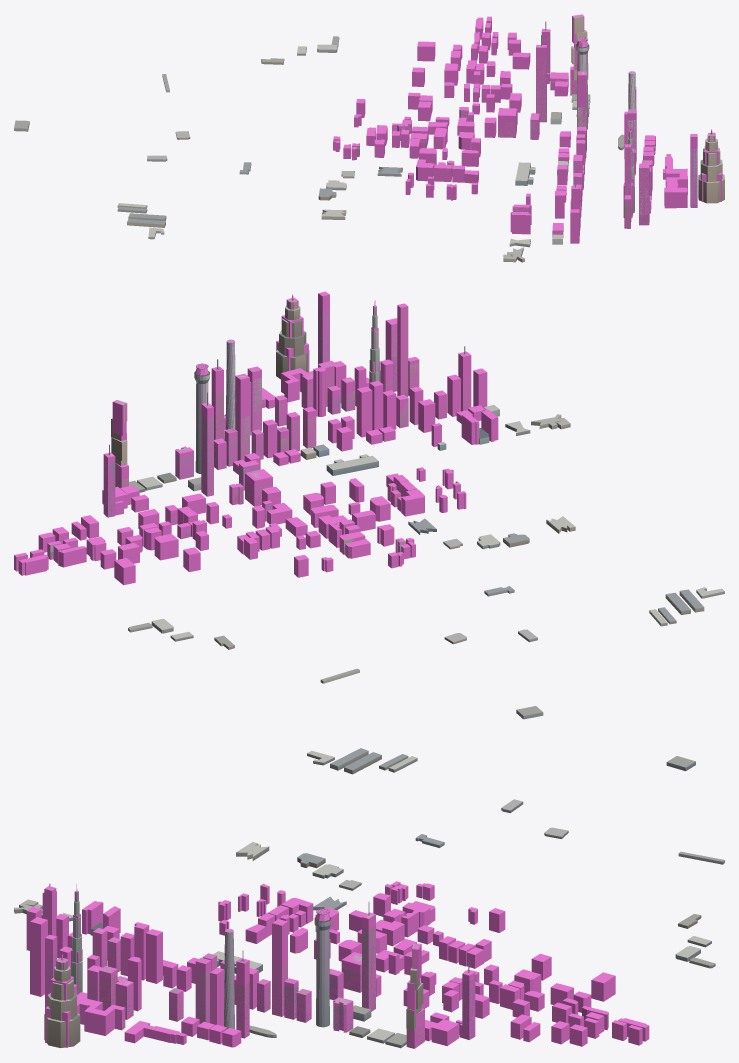
File: bld_12_10.fbx
The picture shows the model from 3 angles, top to bottom: view 1: azimuth 30°, elevation 25°; view 2: azimuth 150°, elevation 25°; view 3: azimuth 270°, elevation 25°; orthographic projection. The views are drawn at different scales.
Parts seen in each view (by area): view 1: bld_12_10_COL, bld_12_10_LOD0; view 2: bld_12_10_COL, bld_12_10_LOD0; view 3: bld_12_10_COL, bld_12_10_LOD0.
Boxes of the visible parts, x1,y1,x2,y2 form: bld_12_10_COL: [333, 14, 721, 243]; bld_12_10_LOD0: [14, 15, 724, 262]; bld_12_10_COL: [14, 291, 498, 585]; bld_12_10_LOD0: [16, 293, 724, 719]; bld_12_10_COL: [26, 881, 649, 1048]; bld_12_10_LOD0: [14, 748, 724, 1048].
Size of what is drawn, in the model's own units: 2063 by 364 by 2083.
